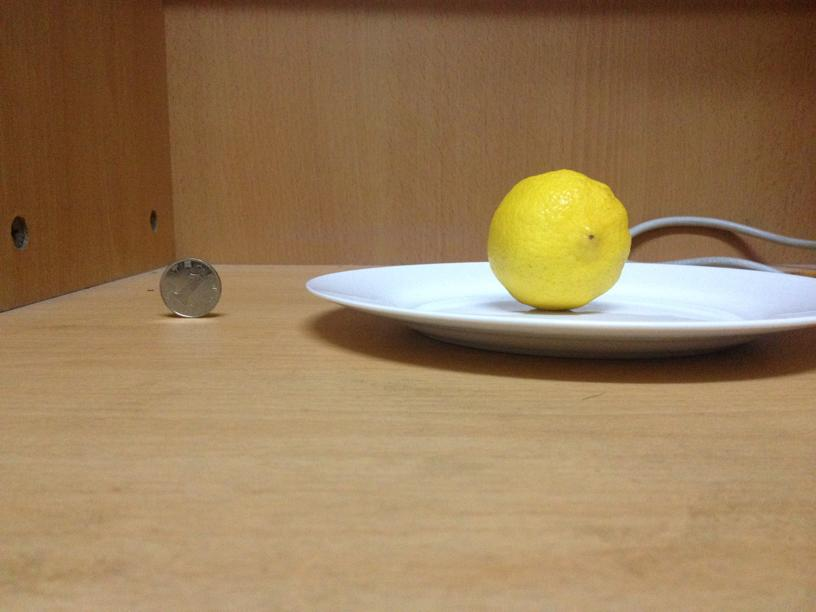coin: (163, 256, 220, 317)
lemon: (488, 170, 630, 309)
